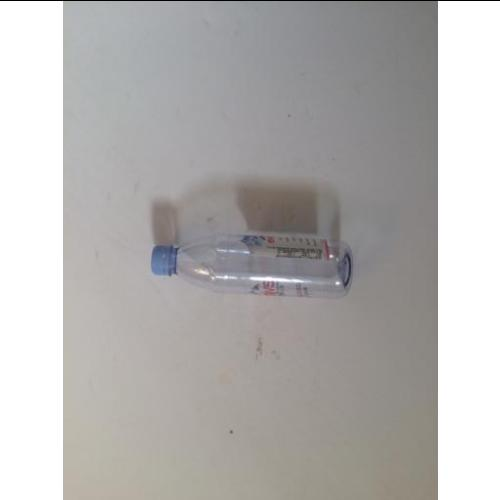plastic: (153, 234, 352, 297)
